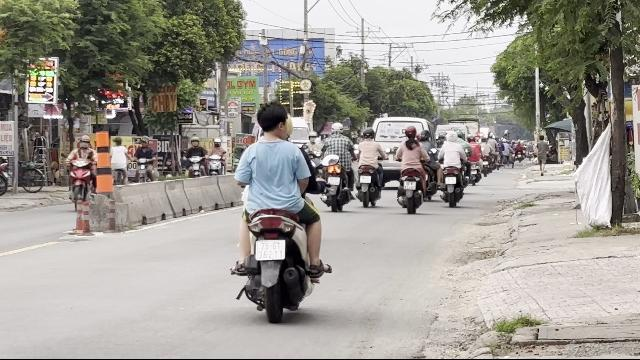licenseplate: (256, 240, 286, 260)
motorcyclist: (225, 100, 331, 320)
nohelmet: (254, 104, 290, 138)
